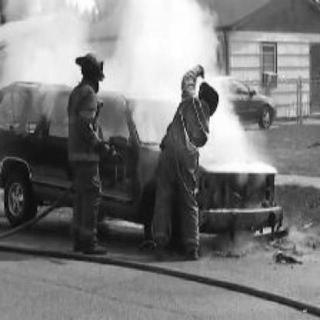other: (142, 26, 186, 78)
